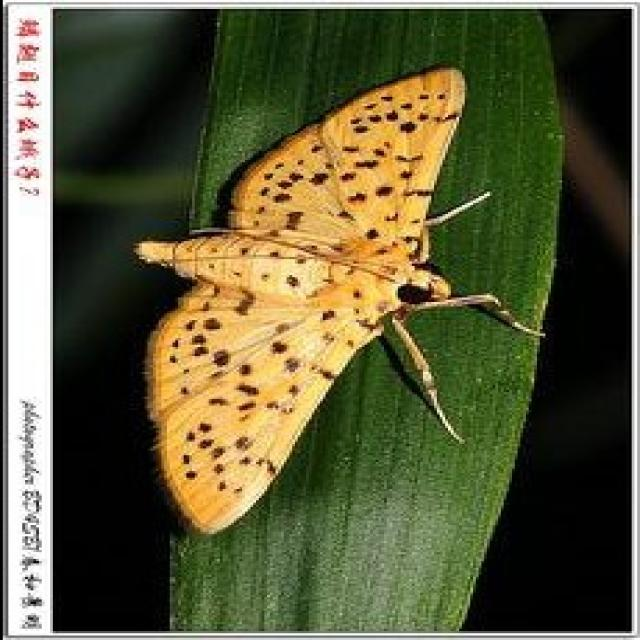peach borer: (133, 59, 531, 542)
